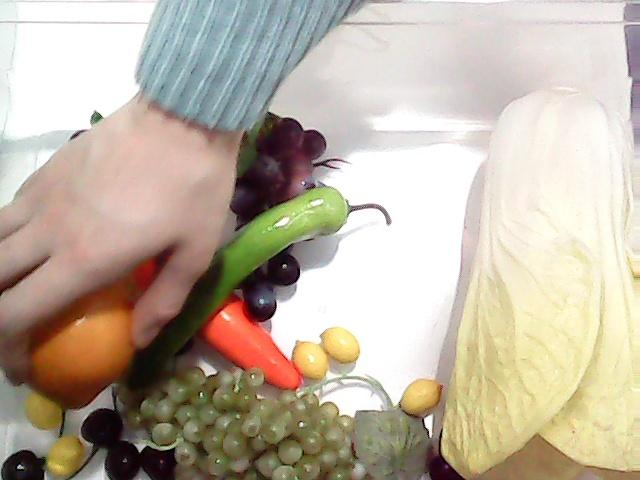carrot: (132, 237, 304, 392)
grape: (134, 385, 388, 477), (214, 103, 330, 229)
mango: (14, 251, 142, 413)
napa cabbage: (436, 80, 640, 480)
pepper: (119, 183, 357, 389)
